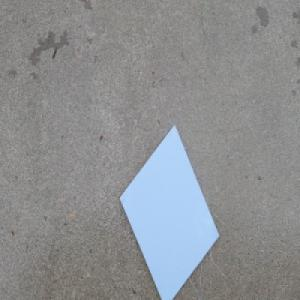PaintChip: (118, 122, 220, 298)
